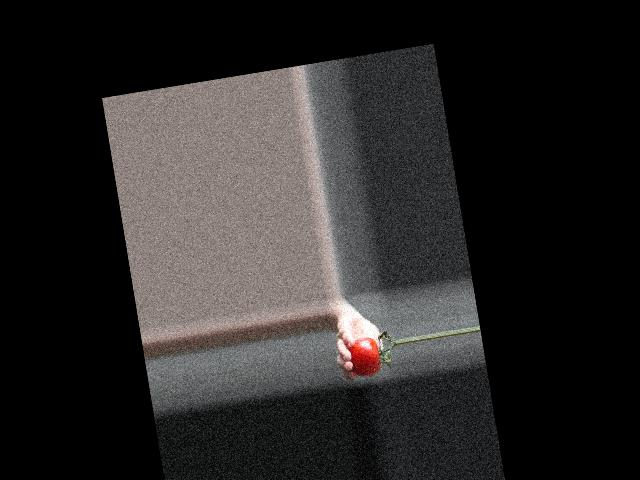tomato: (346, 335, 383, 379)
